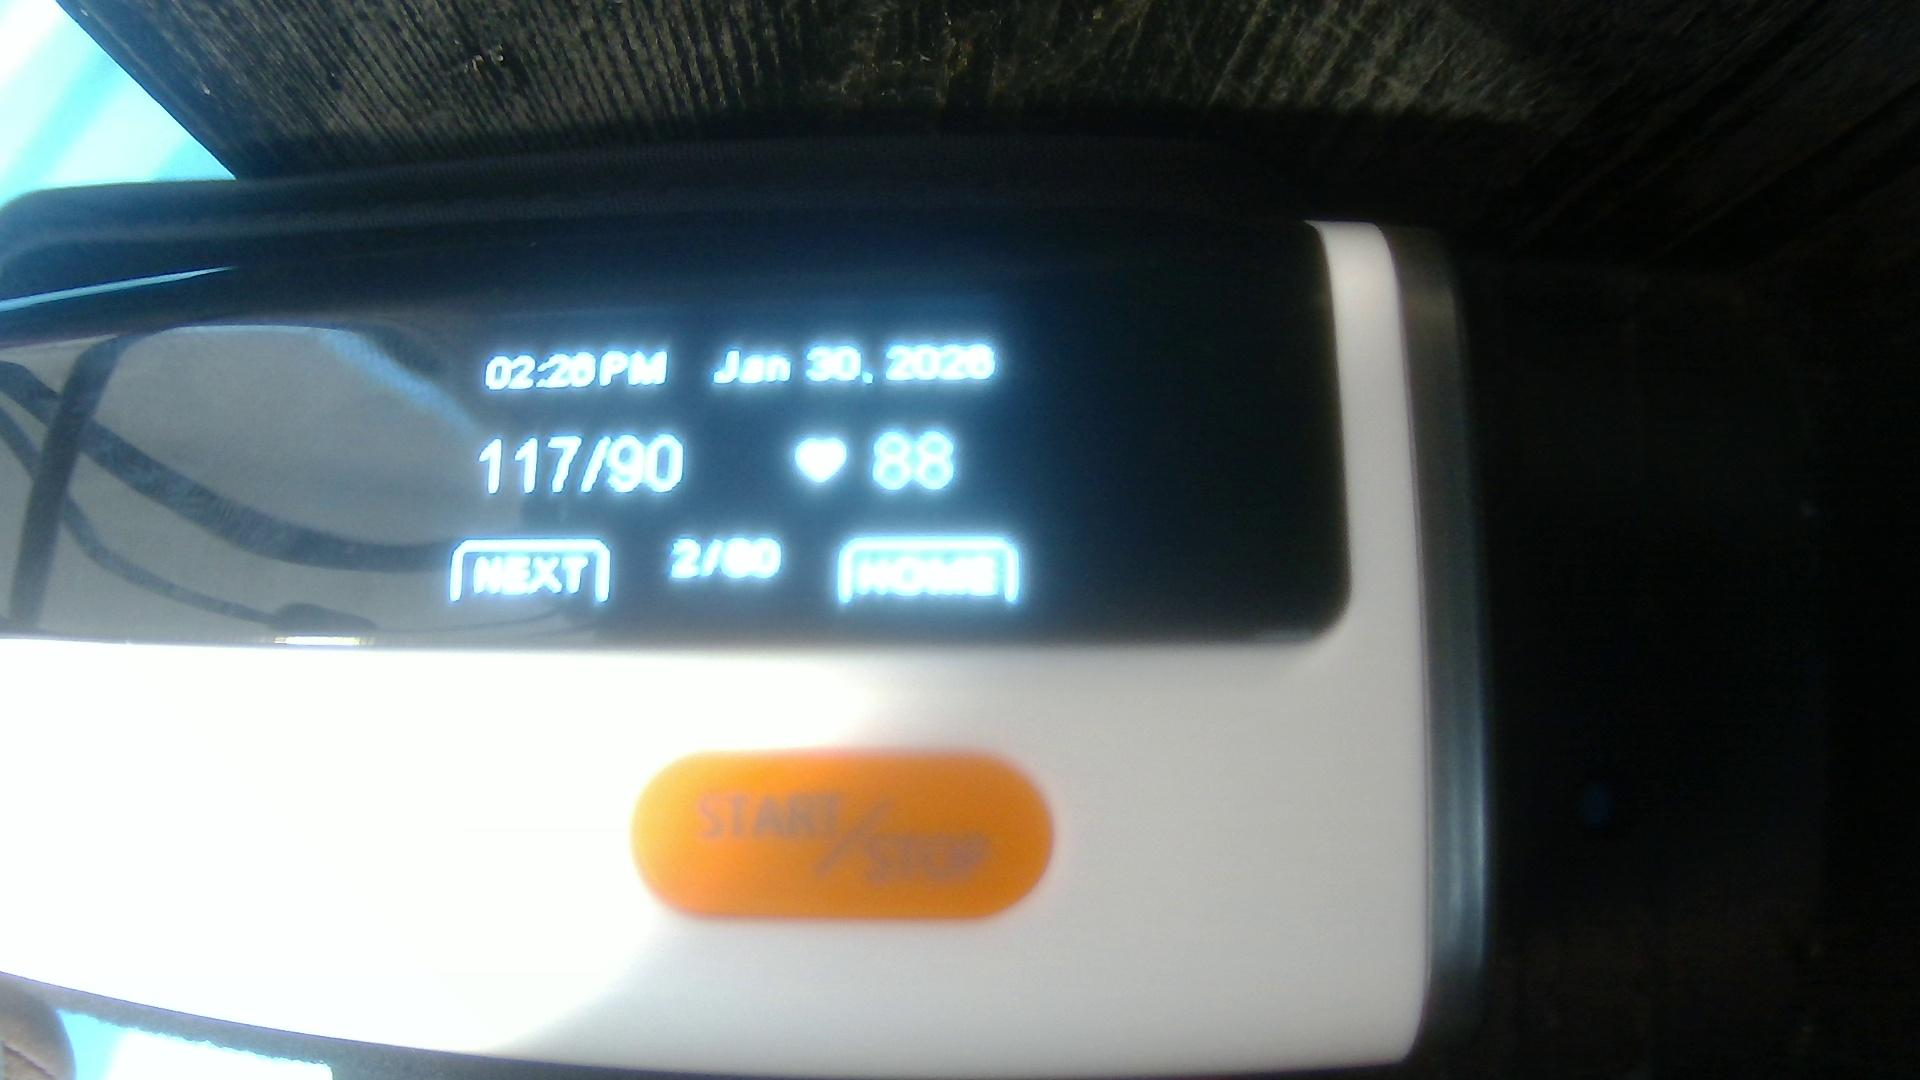DISPLAY: (13, 232, 1319, 637)
